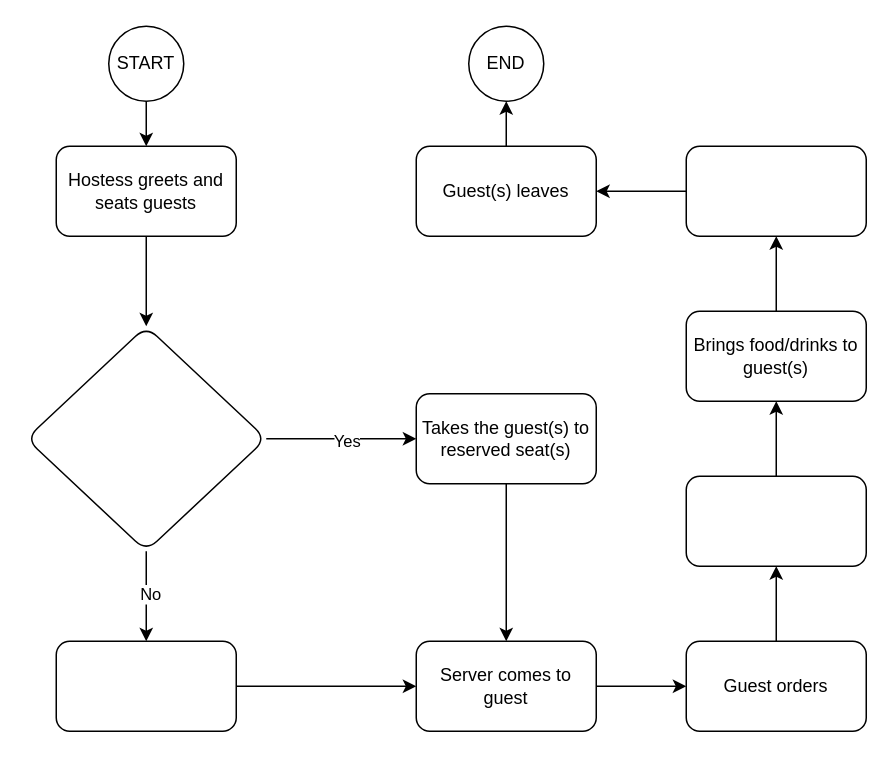
This 893x758 diagram has some shape labels left out. The shapes that lost their labels are listed below. From the top down, each one's box as (x1, y1, x2, y2) in pixels, then its label:
(685, 145, 866, 236): Guest(s) pays
(25, 325, 266, 551): Does the guest have a reservation?
(685, 475, 866, 566): Server takes order to kitchen
(55, 640, 236, 731): Takes the guest(s) to any free space
